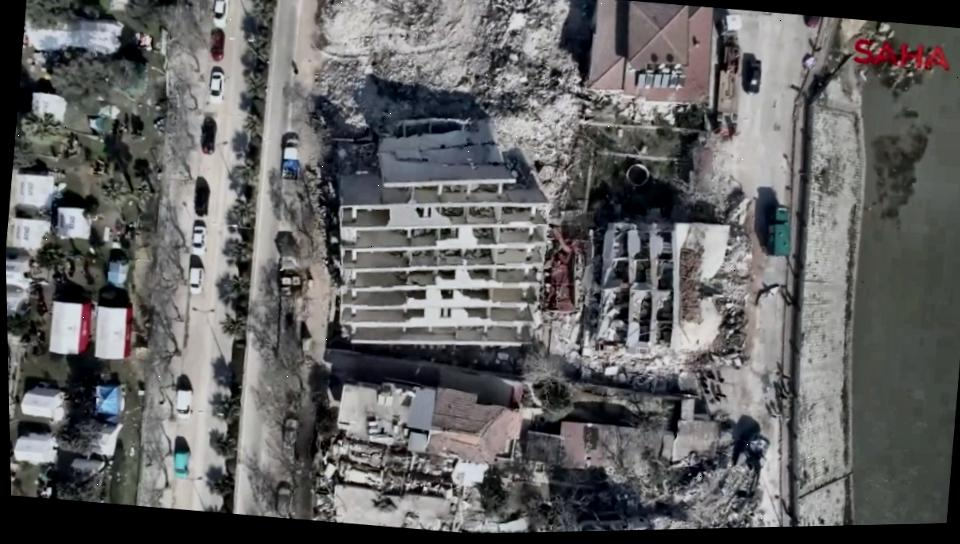kapali: (696, 388, 781, 529)
